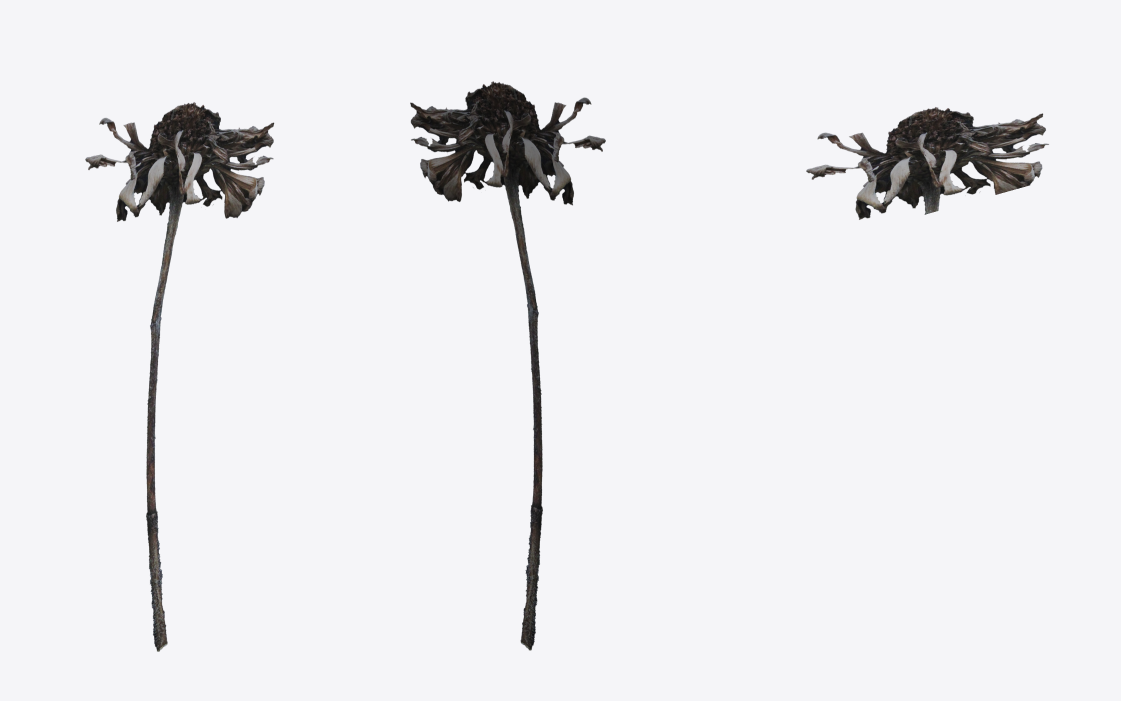
File: dead_sunflower2.glb
3 views of the same model, side by side, from view 1: azimuth 30°, elevation 25°; view 2: azimuth 150°, elevation 25°; view 3: azimuth 270°, elevation 25° (orthographic). The views are drawn at different scales.
Visible parts, largest first — view 1: DeadSunflower2_DeadSunflower2_0; view 2: DeadSunflower2_DeadSunflower2_0; view 3: DeadSunflower2_DeadSunflower2_0.
Part boxes in pixels (x1=…): DeadSunflower2_DeadSunflower2_0: x1=85, y1=102, x2=273, y2=651; DeadSunflower2_DeadSunflower2_0: x1=410, y1=81, x2=605, y2=650; DeadSunflower2_DeadSunflower2_0: x1=806, y1=107, x2=1048, y2=219.
Bounding box in the file's own units: 0.562 × 1.04 × 0.6772.
1 material, 1 textured.
